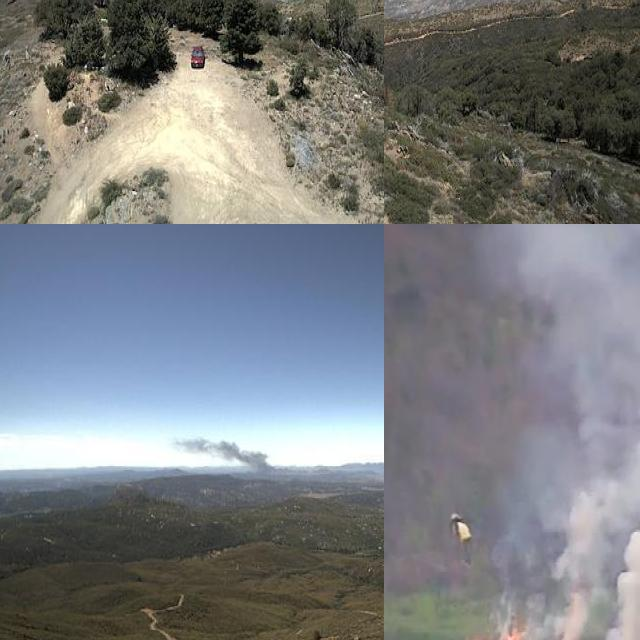fire: (492, 627, 519, 640)
smoke: (487, 224, 640, 640), (171, 428, 283, 480)
